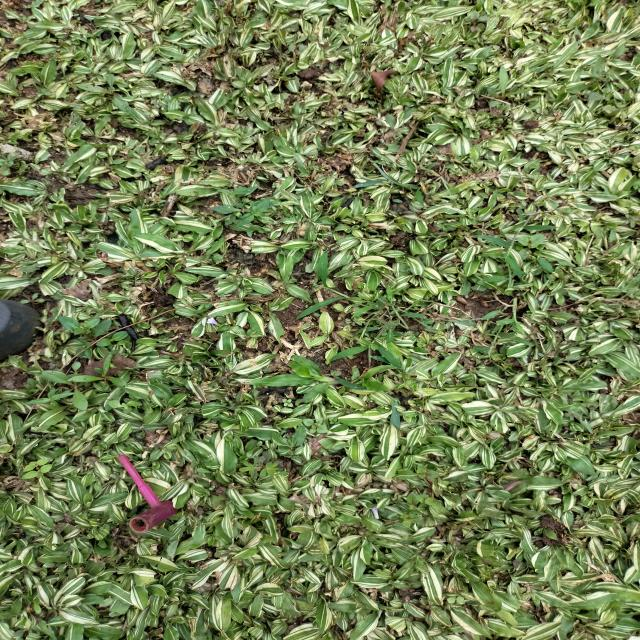bayi: (445, 595, 467, 605)
buah daun: (237, 449, 284, 481)
gingseng jawa: (74, 71, 132, 115), (64, 352, 131, 390), (484, 64, 536, 108), (37, 369, 91, 411), (286, 34, 312, 55), (18, 292, 48, 308)
rambat atas: (469, 211, 562, 281), (294, 249, 351, 323), (328, 327, 407, 374), (350, 300, 434, 331), (478, 294, 528, 338), (476, 257, 528, 293), (413, 162, 454, 198), (379, 391, 403, 432)
rambat bawah: (248, 353, 350, 407), (355, 364, 396, 394)
ungu tunggang: (386, 490, 444, 529), (461, 8, 492, 34), (408, 464, 440, 482), (301, 417, 331, 436)
